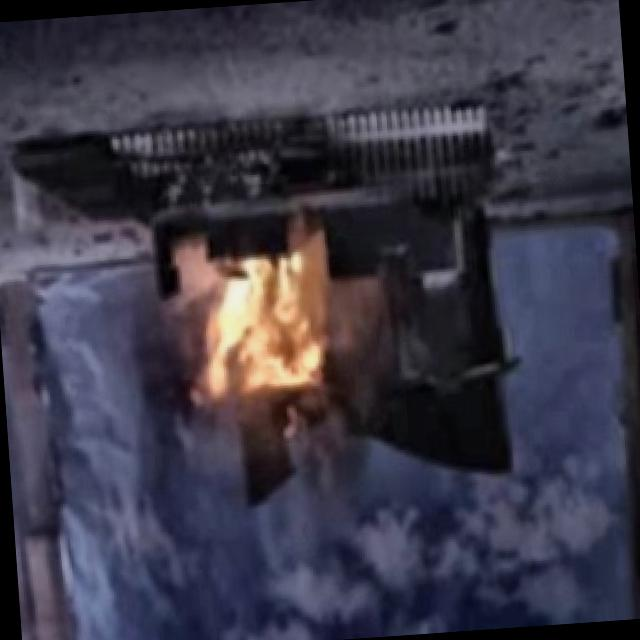fire: (172, 237, 345, 432)
